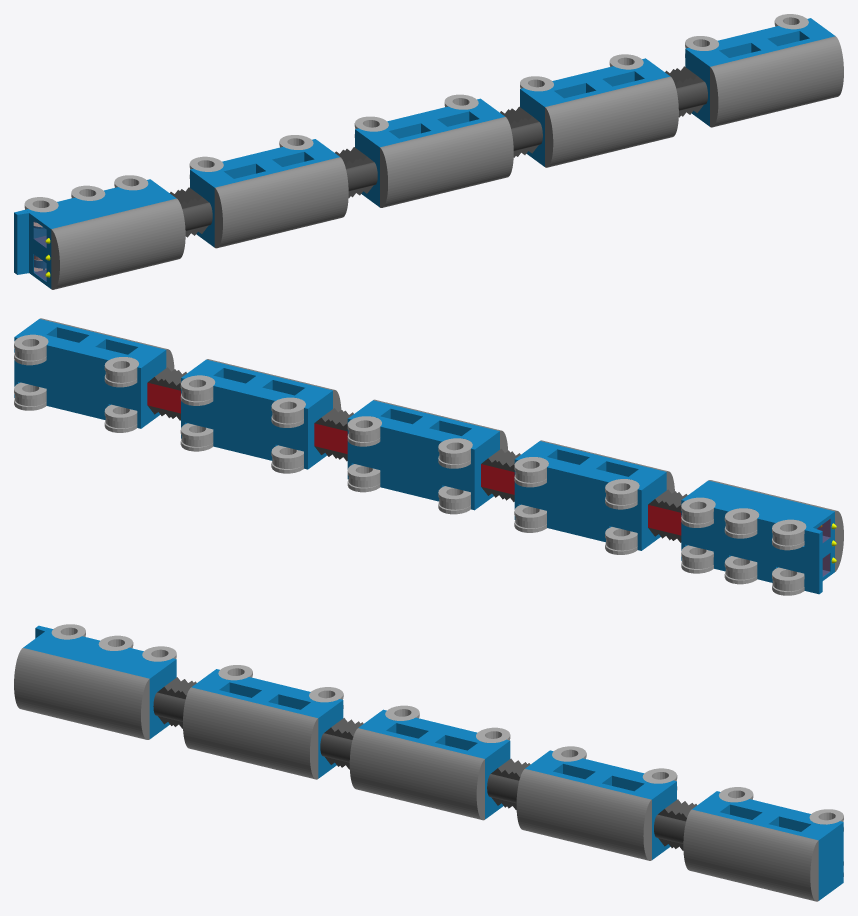
The model's file is tinker.obj.
3 views of the same model, one above another, from view 1: azimuth 30°, elevation 25°; view 2: azimuth 150°, elevation 25°; view 3: azimuth 330°, elevation 25° (orthographic).
Visible parts, largest first — view 1: group_0_9539985, group_0_1019859, group_0_5658198, group_0_12040119; view 2: group_0_1019859, group_0_12040119, group_0_15277357, group_0_5658198, group_0_9539985; view 3: group_0_9539985, group_0_1019859, group_0_5658198, group_0_12040119.
Part boxes in pixels (x1=…): group_0_9539985: x1=51, y1=36, x2=843, y2=289; group_0_1019859: x1=14, y1=18, x2=835, y2=288; group_0_5658198: x1=170, y1=66, x2=707, y2=237; group_0_12040119: x1=24, y1=14, x2=808, y2=271; group_0_1019859: x1=14, y1=319, x2=834, y2=594; group_0_12040119: x1=14, y1=334, x2=806, y2=595; group_0_15277357: x1=147, y1=382, x2=681, y2=535; group_0_5658198: x1=147, y1=367, x2=687, y2=542; group_0_9539985: x1=39, y1=318, x2=843, y2=571; group_0_9539985: x1=14, y1=648, x2=818, y2=901; group_0_1019859: x1=23, y1=625, x2=843, y2=900; group_0_5658198: x1=153, y1=677, x2=696, y2=850; group_0_12040119: x1=51, y1=624, x2=843, y2=876.
Bounding box in the file's own units: 222 × 16.24 × 22.
